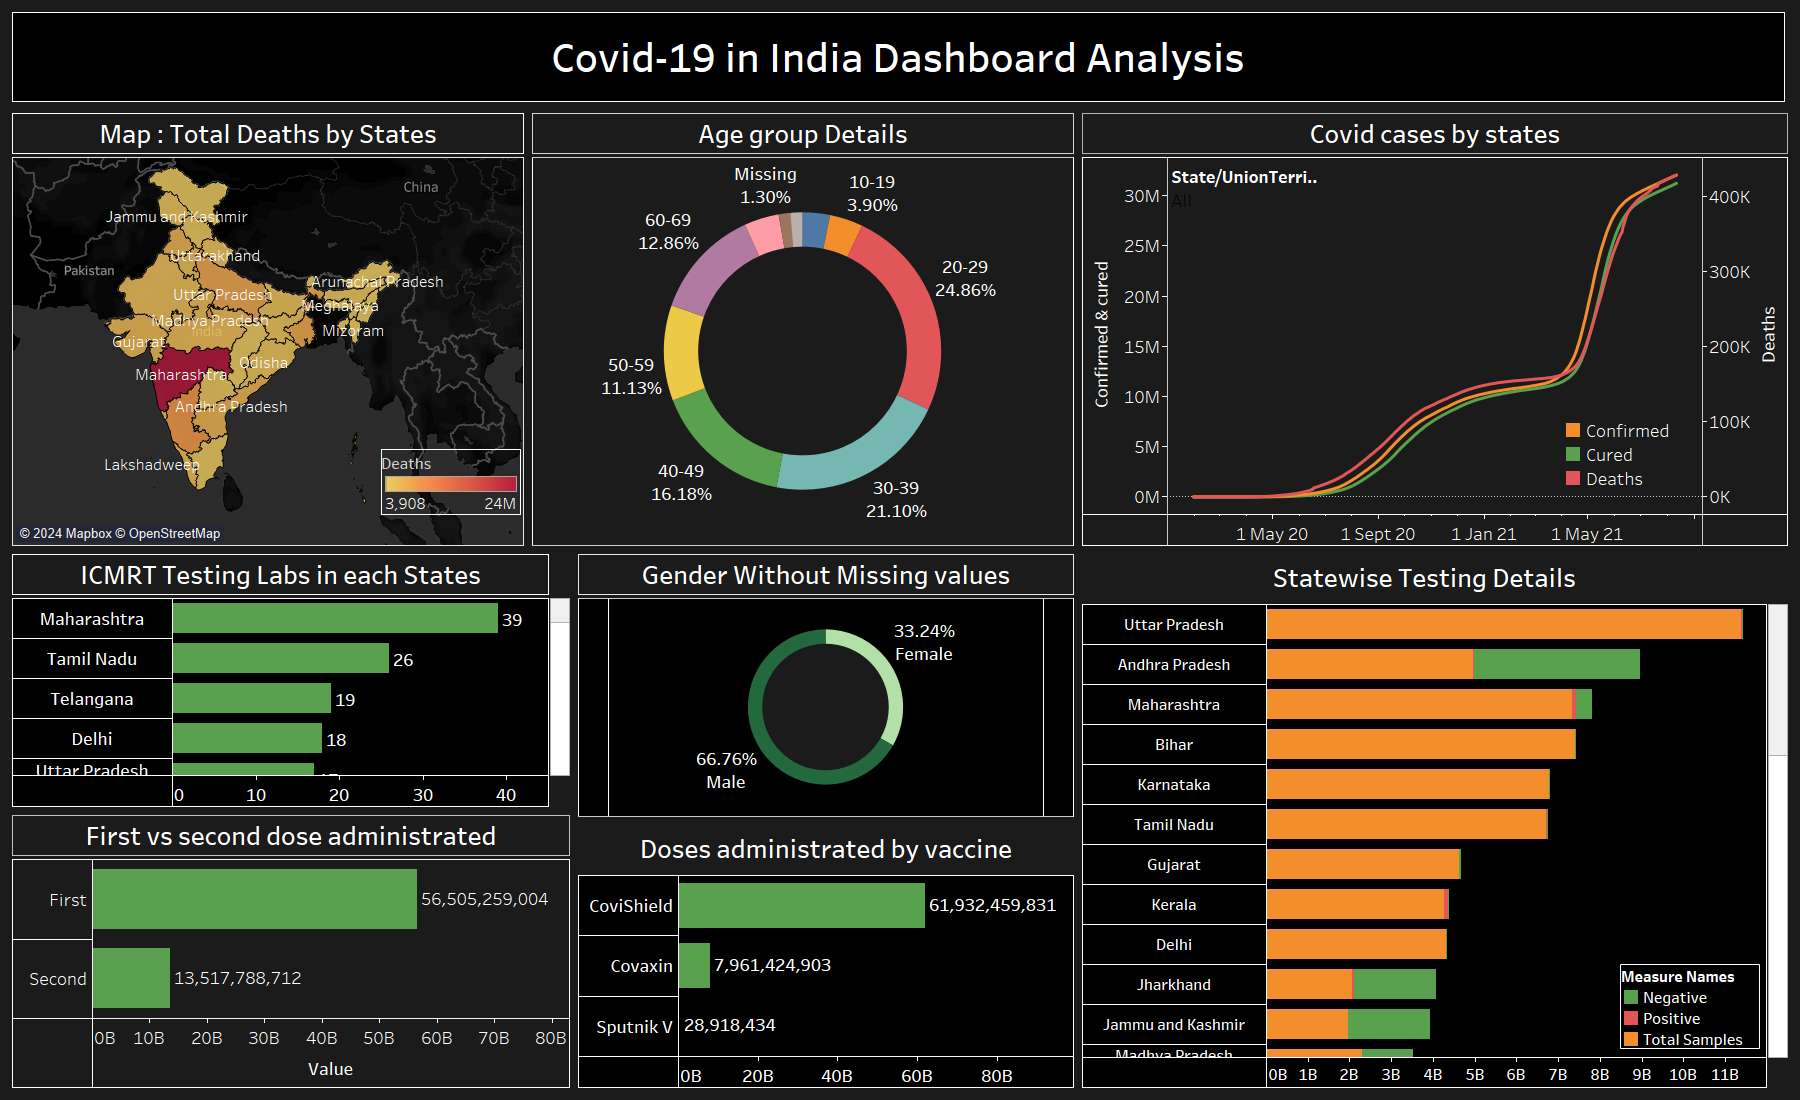

Layout of this report page (visuals, bound fields, positions):
{"tool":"tableau","page":{"name":"Dashboard 1","canvas":[1800,1100],"ordinal":0},"visuals":[{"type":"worksheet","title":"Title","mark":"Automatic","box":[8,8,1784,101]},{"type":"worksheet","title":"Map: total deaths by states","mark":"Multipolygon","box":[8,109,520,441]},{"type":"worksheet","title":"Age group Details","mark":"Pie","rows":["Calculation_521291682602418181","Calculation_521291682602520583"],"box":[528,109,550,441]},{"type":"worksheet","title":"Covid cases by states","mark":"Automatic","rows":["Deaths"],"cols":["Date"],"box":[1078,109,714,441]},{"type":"filter","title":"Covid cases by states","param":"[federated.1kx872w15a815q15ccrjr0tgs4vm].[none:State/UnionTerritory:nk]","box":[1169,164,151,63]},{"type":"legend","title":"Covid cases by states","param":"[federated.1kx872w15a815q15ccrjr0tgs4vm].[:Measure Names]","box":[1561,418,140,72]},{"type":"legend","title":"Map: total deaths by states","param":"[federated.1kx872w15a815q15ccrjr0tgs4vm].[sum:Deaths:qk]","box":[381,449,140,88]},{"type":"worksheet","title":"ICMRT Testing Labs in each States","mark":"Automatic","rows":["state"],"cols":["lab"],"box":[8,550,566,261]},{"type":"worksheet","title":"Gender Without Missing values","mark":"Pie","rows":["Calculation_521291682607726602","Calculation_521291682607726602"],"box":[574,550,504,271]},{"type":"worksheet","title":"Statewise Testing Details ","mark":"Automatic","rows":["State"],"box":[1078,550,714,542]},{"type":"worksheet","title":"First vs second dose administrated","mark":"Automatic","box":[8,811,566,281]},{"type":"worksheet","title":"Doses administrated by vaccine ","mark":"Automatic","box":[574,821,504,271]},{"type":"legend","title":"Statewise Testing Details ","param":"[federated.0fh24wp1ta7isi15qjfdz0dvo4az].[:Measure Names]","box":[1620,964,140,85]}]}

Visuals, with their boxes in screenshot pixels (x1, y1, x2, y2), scaled from the page's 1800x1100 canvas onto the 1800x1100 screenshot:
"Title" worksheet: (8,8,1792,109)
"Map: total deaths by states" worksheet (Multipolygon marks): (8,109,528,550)
"Age group Details" worksheet (Pie marks): (528,109,1078,550)
"Covid cases by states" worksheet: (1078,109,1792,550)
"Covid cases by states" filter: (1169,164,1320,227)
"Covid cases by states" legend: (1561,418,1701,490)
"Map: total deaths by states" legend: (381,449,521,537)
"ICMRT Testing Labs in each States" worksheet: (8,550,574,811)
"Gender Without Missing values" worksheet (Pie marks): (574,550,1078,821)
"Statewise Testing Details " worksheet: (1078,550,1792,1092)
"First vs second dose administrated" worksheet: (8,811,574,1092)
"Doses administrated by vaccine " worksheet: (574,821,1078,1092)
"Statewise Testing Details " legend: (1620,964,1760,1049)
